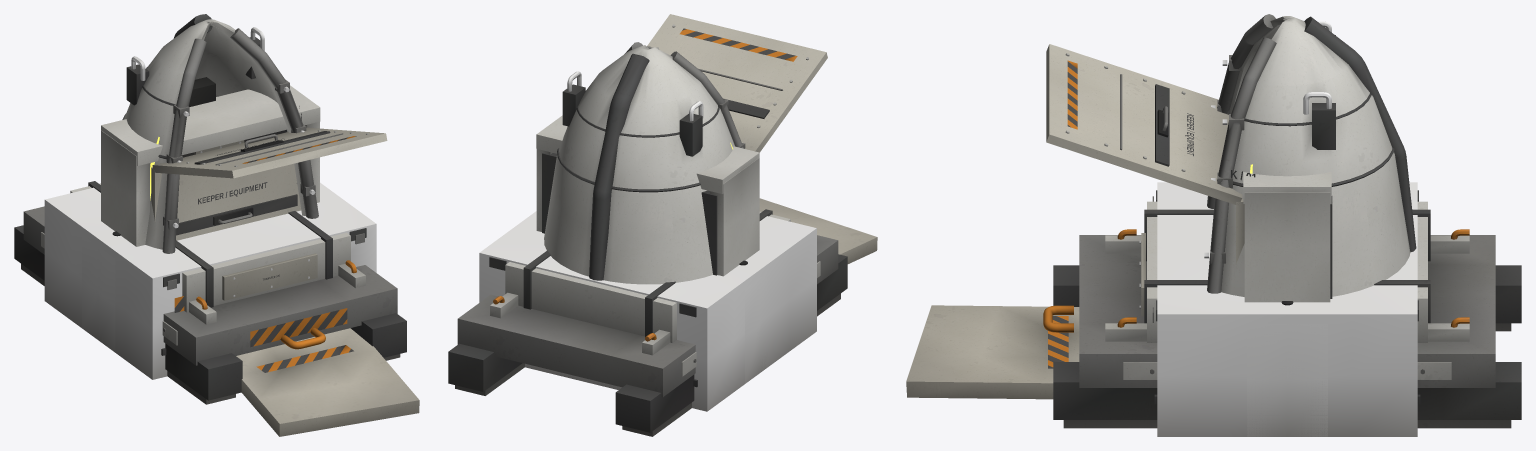
The model's file is props.glb.
The picture shows the model from 3 angles, left to right: view 1: azimuth 30°, elevation 25°; view 2: azimuth 150°, elevation 25°; view 3: azimuth 270°, elevation 25°; orthographic projection. The views are drawn at different scales.
Parts seen in each view (by area): view 1: cargo_sled, cover_wall, drop_pod, pod_hatch, weapon_rack, rack_door, rack_door_open, barrier; view 2: drop_pod, cargo_sled, cover_wall, rack_door_open, weapon_rack, pod_hatch, barrier; view 3: cargo_sled, cover_wall, drop_pod, rack_door_open, pod_hatch, weapon_rack, barrier.
Part boxes in pixels (left/top/right/bottom): cargo_sled: left=14, top=181, right=406, bottom=404; cover_wall: left=44, top=182, right=376, bottom=379; drop_pod: left=122, top=14, right=318, bottom=253; pod_hatch: left=236, top=328, right=419, bottom=436; weapon_rack: left=101, top=85, right=320, bottom=246; rack_door: left=151, top=163, right=301, bottom=240; rack_door_open: left=152, top=127, right=387, bottom=178; barrier: left=82, top=235, right=115, bottom=352; drop_pod: left=544, top=42, right=745, bottom=284; cargo_sled: left=448, top=209, right=847, bottom=436; cover_wall: left=479, top=211, right=816, bottom=411; rack_door_open: left=647, top=14, right=827, bottom=152; weapon_rack: left=536, top=115, right=759, bottom=276; pod_hatch: left=759, top=198, right=877, bottom=263; barrier: left=745, top=273, right=769, bottom=383; cargo_sled: left=1043, top=201, right=1521, bottom=428; cover_wall: left=1152, top=182, right=1420, bottom=436; drop_pod: left=1204, top=14, right=1416, bottom=296; rack_door_open: left=1046, top=44, right=1242, bottom=205; pod_hatch: left=906, top=305, right=1079, bottom=399; weapon_rack: left=1243, top=172, right=1332, bottom=302; barrier: left=1247, top=323, right=1327, bottom=436.
Size of what is drawn, in the model's own units: 3 by 3.72 by 5.91.
4 materials, 1 textured.
